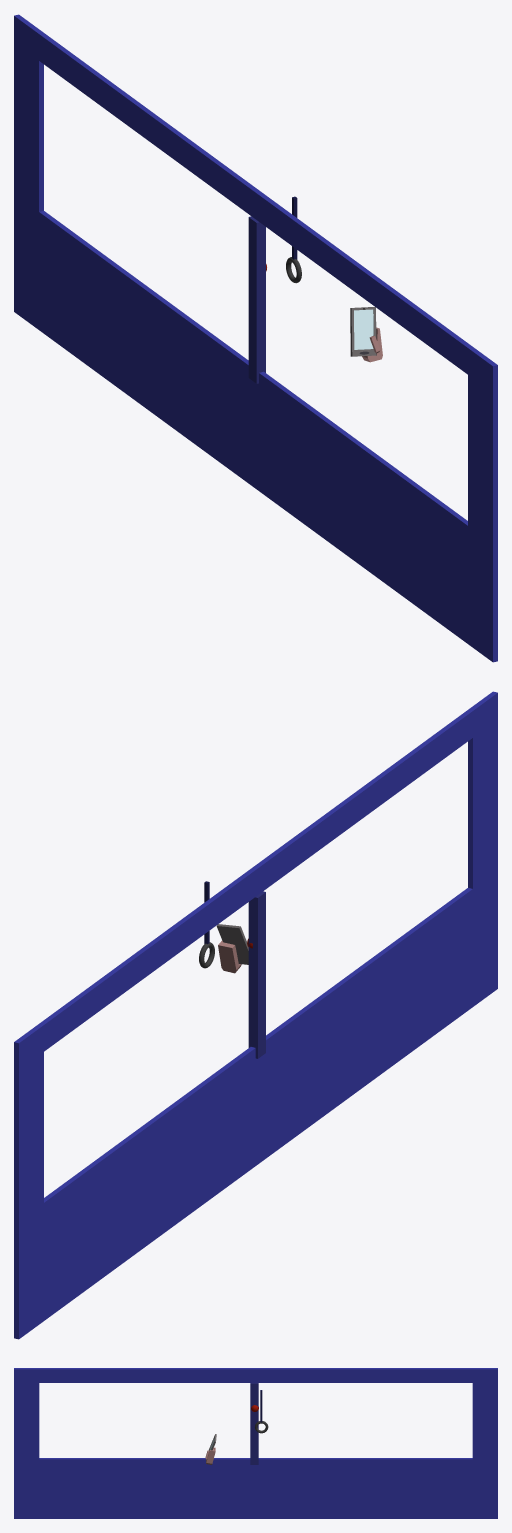
The model's file is bus.3c20b2ec.glb.
3 renders of one model, top to bottom at view 1: azimuth 30°, elevation 25°; view 2: azimuth 150°, elevation 25°; view 3: azimuth 270°, elevation 25°, orthographic. The views are drawn at different scales.
Visible parts, largest first — view 1: Cube, 큐브.007, 큐브; view 2: Cube, 큐브.007, 큐브.003; view 3: Cube, 큐브.007.
Boxes of the visible parts, left/top/right/bottom form: Cube: left=14, top=14, right=497, bottom=662; 큐브.007: left=248, top=216, right=265, bottom=383; 큐브: left=354, top=309, right=373, bottom=349; Cube: left=14, top=691, right=497, bottom=1339; 큐브.007: left=248, top=891, right=265, bottom=1058; 큐브.003: left=216, top=924, right=248, bottom=964; Cube: left=14, top=1368, right=497, bottom=1518; 큐브.007: left=250, top=1383, right=258, bottom=1464.
Size of the model in its own units: 2.68 by 9.06 by 26.55.
